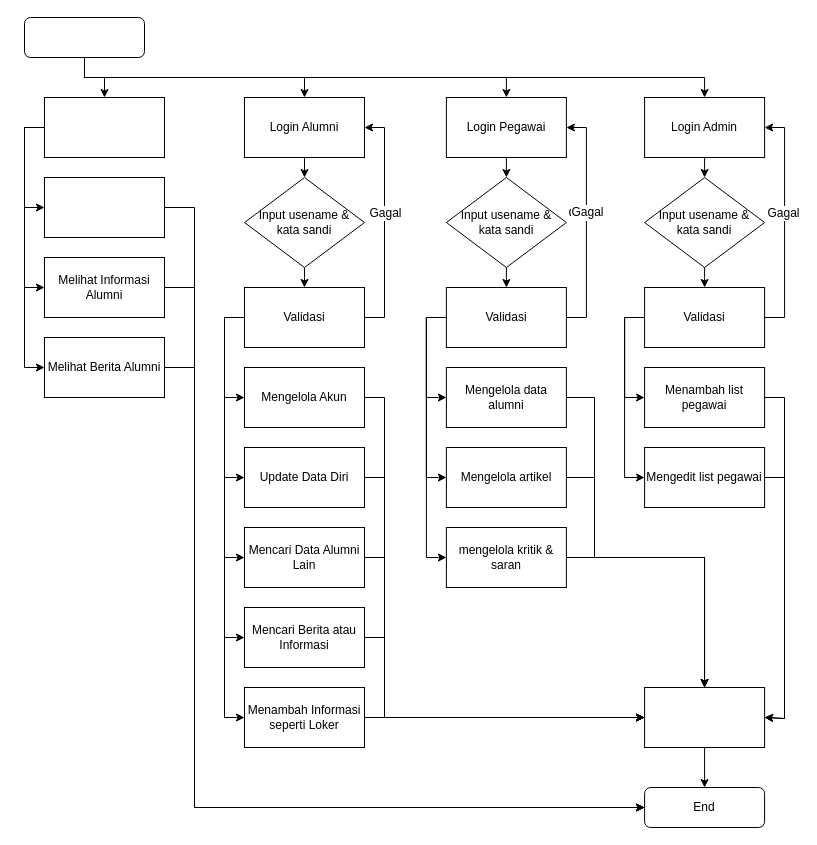
The diagram is 817 pixels wide and 845 high, and some of its shapes have lost their labels. Each missing label, with the centre of its shape:
"Logout" goes at (x=704, y=717).
"Mahasiswa Aktif" goes at (x=104, y=127).
"Mencari Alumni" goes at (x=104, y=207).
"Start" goes at (x=84, y=37).
